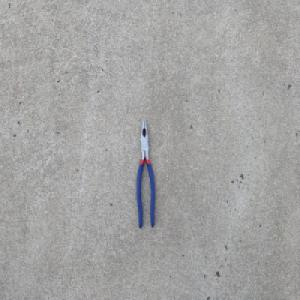Pliers: (135, 117, 156, 230)
